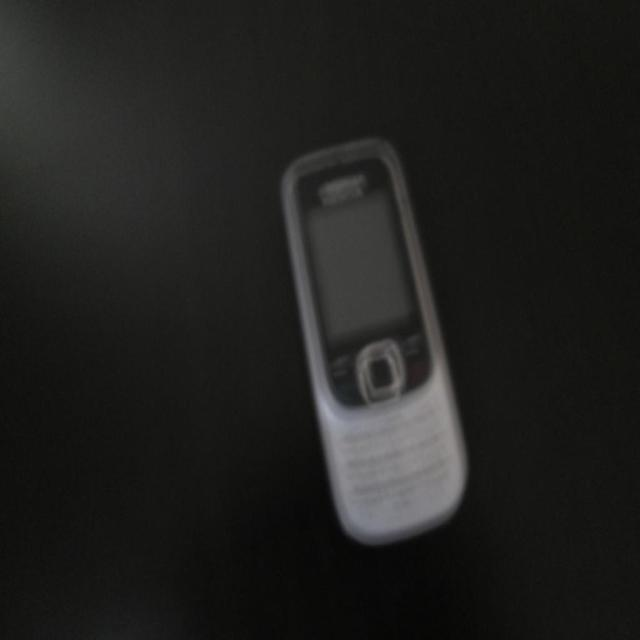Phone: (278, 128, 472, 550)
